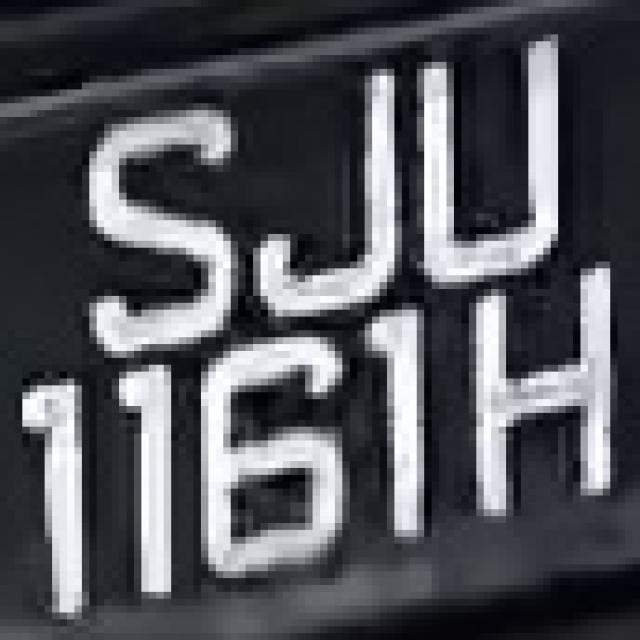1: (89, 344, 186, 606), (357, 303, 454, 564), (22, 351, 104, 626)
6: (201, 323, 342, 599)
H: (469, 275, 632, 516)
J: (238, 62, 409, 316)
S: (59, 96, 246, 358)
U: (387, 34, 566, 303)
